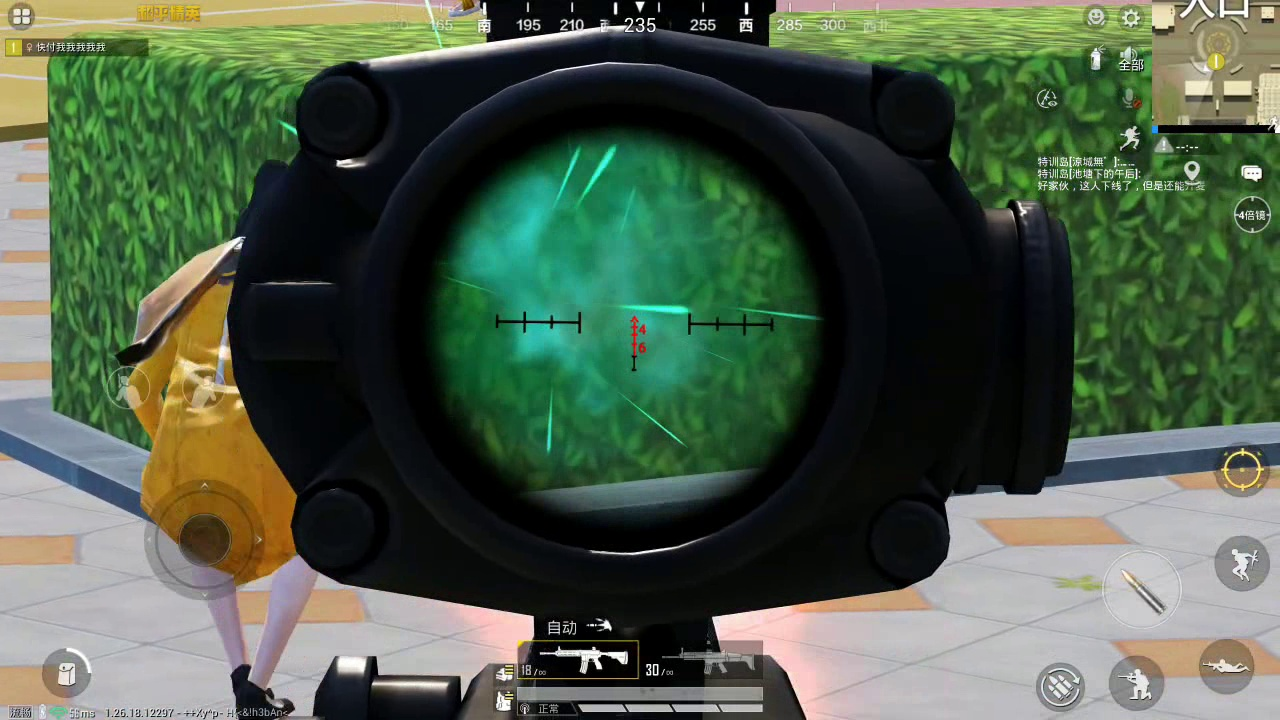enemy: (120, 163, 317, 717)
